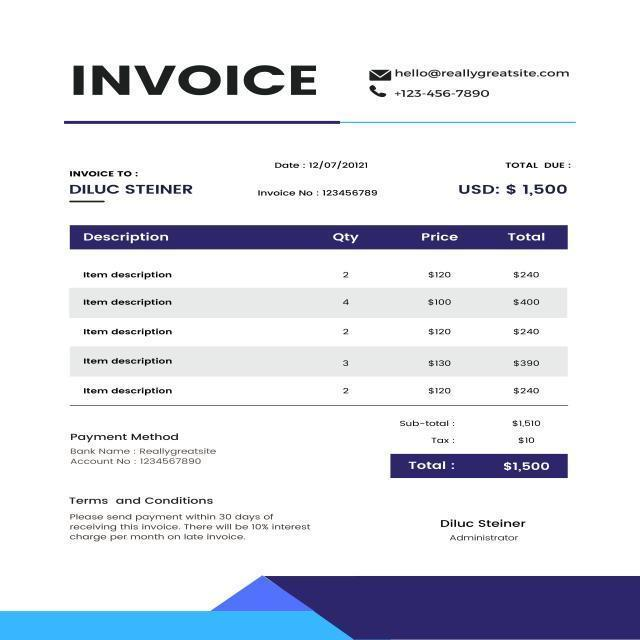ROI: (65, 223, 571, 402), (67, 493, 328, 549), (55, 62, 321, 108), (392, 415, 569, 475), (367, 63, 584, 105), (60, 430, 226, 473), (59, 159, 201, 209), (459, 146, 578, 201), (266, 156, 380, 177)
